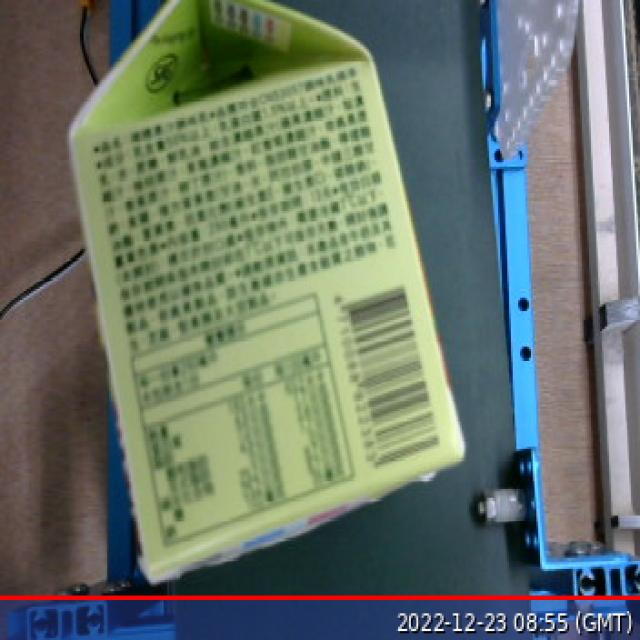non_white_jug: (35, 0, 488, 613)
